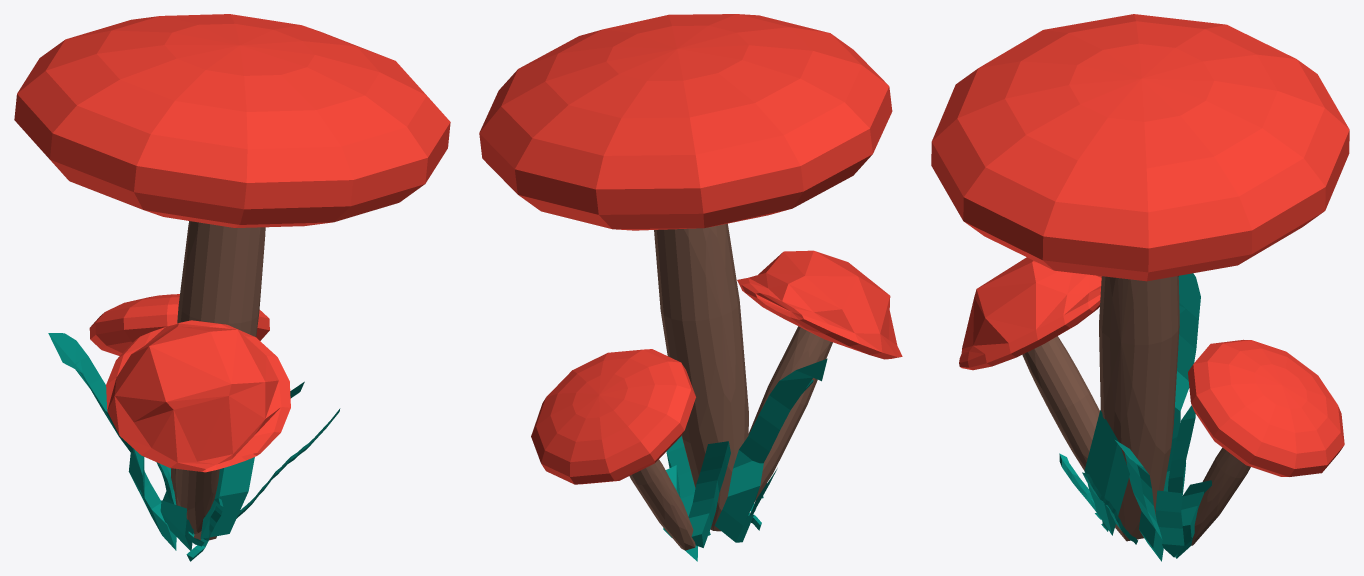
Rendered from mushroom.glb.
3 renders of one model, left to right at view 1: azimuth 30°, elevation 25°; view 2: azimuth 150°, elevation 25°; view 3: azimuth 270°, elevation 25°, orthographic. The views are drawn at different scales.
Parts seen in each view (by area): view 1: group123547455; view 2: group123547455; view 3: group123547455.
Part boxes in pixels (x1,y1,x2,y2): group123547455: (14, 14, 450, 561); group123547455: (479, 14, 902, 561); group123547455: (931, 14, 1349, 561).
Bounding box in the file's own units: 0.146 × 0.1885 × 0.1423.
